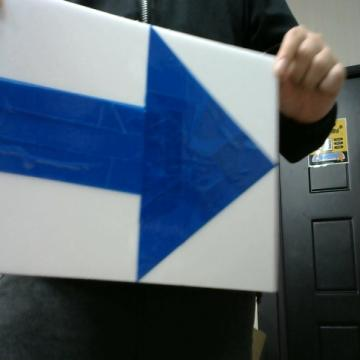blue_right: (0, 29, 272, 279)
